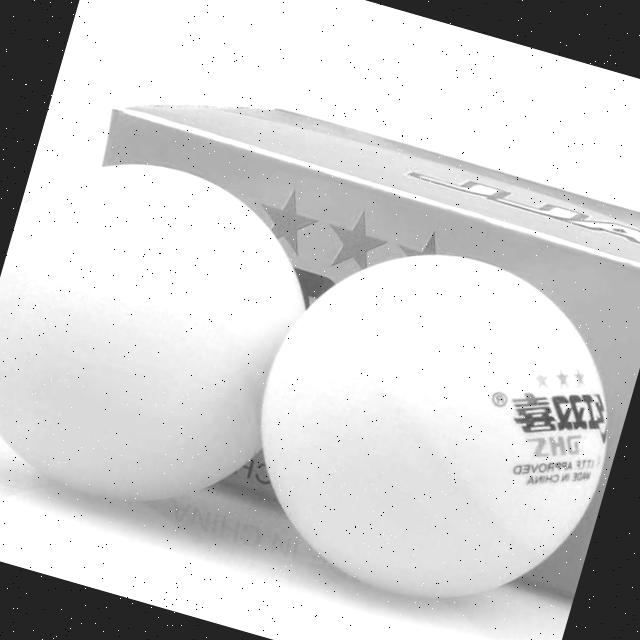ping-pong-ball: (215, 207, 640, 640), (0, 128, 323, 533)
